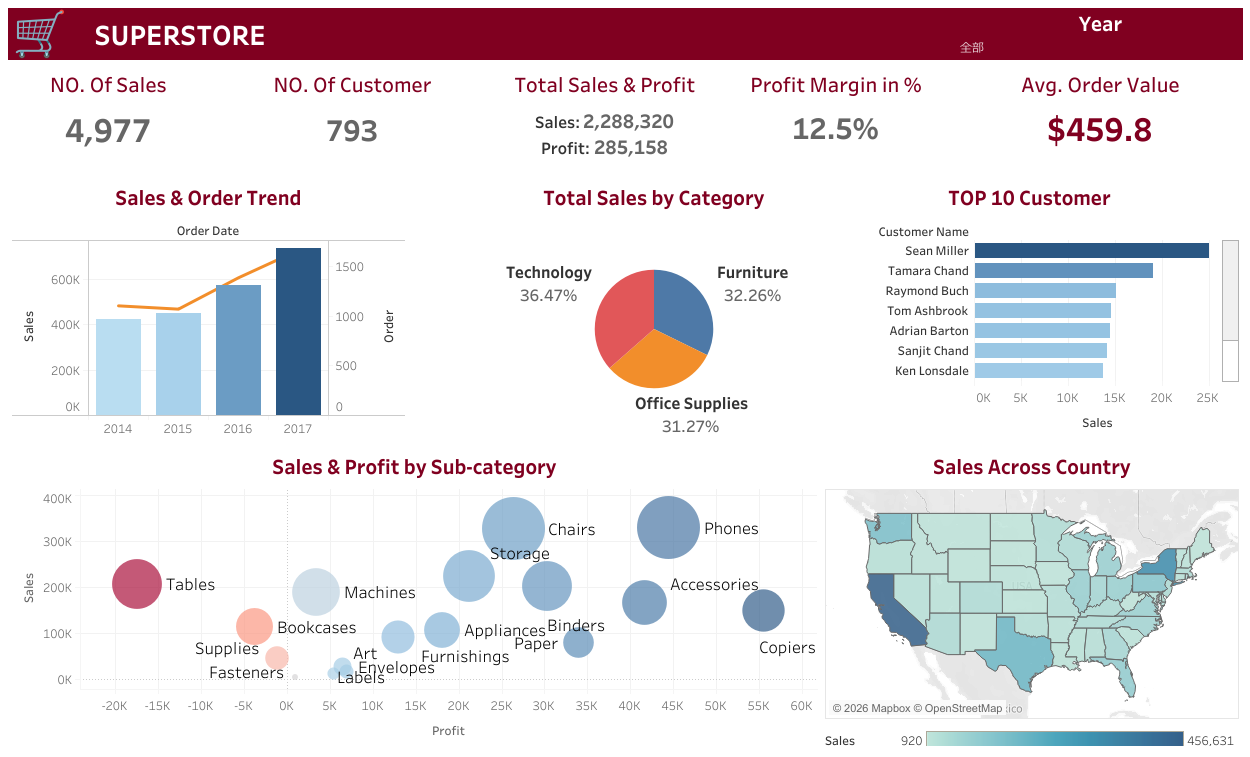

What the dashboard file says about the page in this screenshot:
{"tool":"tableau","page":{"name":"Overview","canvas":[1000,1000],"units":"permille","ordinal":1},"visuals":[{"type":"image","param":"Image/shopping-cart_1f6d2.png","box":[5.2,8.4,51.4,68.5]},{"type":"text","box":[56.6,8.4,709.9,68.5]},{"type":"filter","title":"Sales & Order Trend","param":"[federated.1bmkp591ttn1uk1fxnozp0wfu9q8].[yr:Order Date:ok]","box":[766.5,8.4,228.3,68.5]},{"type":"worksheet","title":"NO.of sales","mark":"Automatic","box":[5.2,76.9,160.9,144.2]},{"type":"worksheet","title":"NO. of Customer","mark":"Text","box":[166.1,76.9,229.8,144.2]},{"type":"worksheet","title":"Total sales&profit","mark":"Automatic","box":[395.9,76.9,174.6,144.2]},{"type":"worksheet","title":"Profit Margin%","mark":"Automatic","box":[570.6,76.9,195.8,144.2]},{"type":"worksheet","title":"avevage order value","mark":"Automatic","box":[766.3,76.9,228.5,144.2]},{"type":"worksheet","title":"Sales & Order Trend","mark":"Bar","rows":["Sales","Calculation_1141316854247427"],"cols":["Order Date"],"box":[5.2,221.1,373.3,362.8]},{"type":"worksheet","title":"Total Sales by Category","mark":"Pie","box":[378.5,221.1,288.8,362.8]},{"type":"worksheet","title":"Top 10 cus","mark":"Automatic","rows":["Customer Name"],"cols":["Sales"],"box":[667.4,221.1,327.4,362.8]},{"type":"worksheet","title":"Sales & Profit by Sub-category","mark":"Automatic","rows":["Sales"],"cols":["Profit"],"box":[5.2,583.9,651.6,407.7]},{"type":"worksheet","title":"Sales Across Country","mark":"Automatic","box":[656.8,583.9,338,372.4]},{"type":"legend","title":"Sales Across Country","param":"[federated.1bmkp591ttn1uk1fxnozp0wfu9q8].[sum:Sales:qk]","box":[656.8,956.3,338,35.3]}]}

Visuals, with their boxes on the dashboard's canvas, which has no fixed pixel size, in thousandths of its width and height (x1, y1, x2, y2). These are canvas units, not pixel positions in the 1250x757 screenshot, which may show the page scaled, cropped or inside an application window:
image: region(5, 8, 57, 77)
text: region(57, 8, 766, 77)
"Sales & Order Trend" filter: region(766, 8, 995, 77)
"NO.of sales" worksheet: region(5, 77, 166, 221)
"NO. of Customer" worksheet (Text marks): region(166, 77, 396, 221)
"Total sales&profit" worksheet: region(396, 77, 570, 221)
"Profit Margin%" worksheet: region(571, 77, 766, 221)
"avevage order value" worksheet: region(766, 77, 995, 221)
"Sales & Order Trend" worksheet (Bar marks): region(5, 221, 378, 584)
"Total Sales by Category" worksheet (Pie marks): region(378, 221, 667, 584)
"Top 10 cus" worksheet: region(667, 221, 995, 584)
"Sales & Profit by Sub-category" worksheet: region(5, 584, 657, 992)
"Sales Across Country" worksheet: region(657, 584, 995, 956)
"Sales Across Country" legend: region(657, 956, 995, 992)
